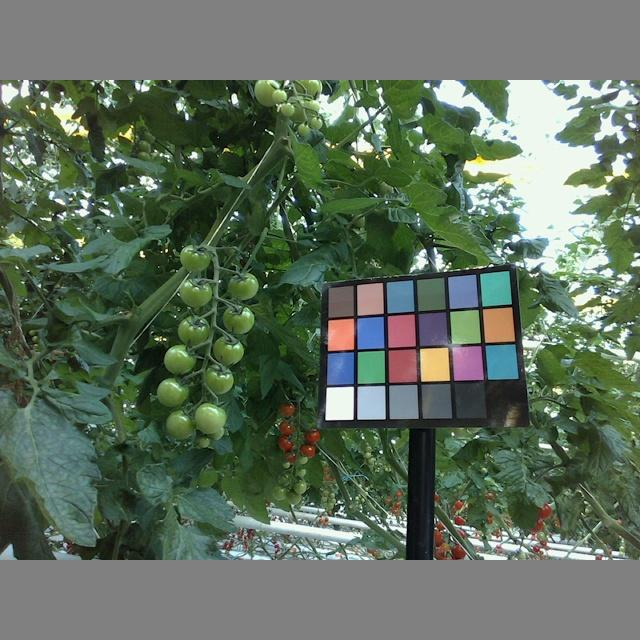green: (198, 366, 235, 397), (177, 315, 212, 347), (155, 377, 190, 408), (211, 335, 243, 367), (163, 344, 197, 374), (192, 403, 226, 433), (165, 409, 196, 440), (178, 280, 211, 308), (226, 271, 259, 299), (223, 305, 253, 335), (178, 245, 211, 271)
